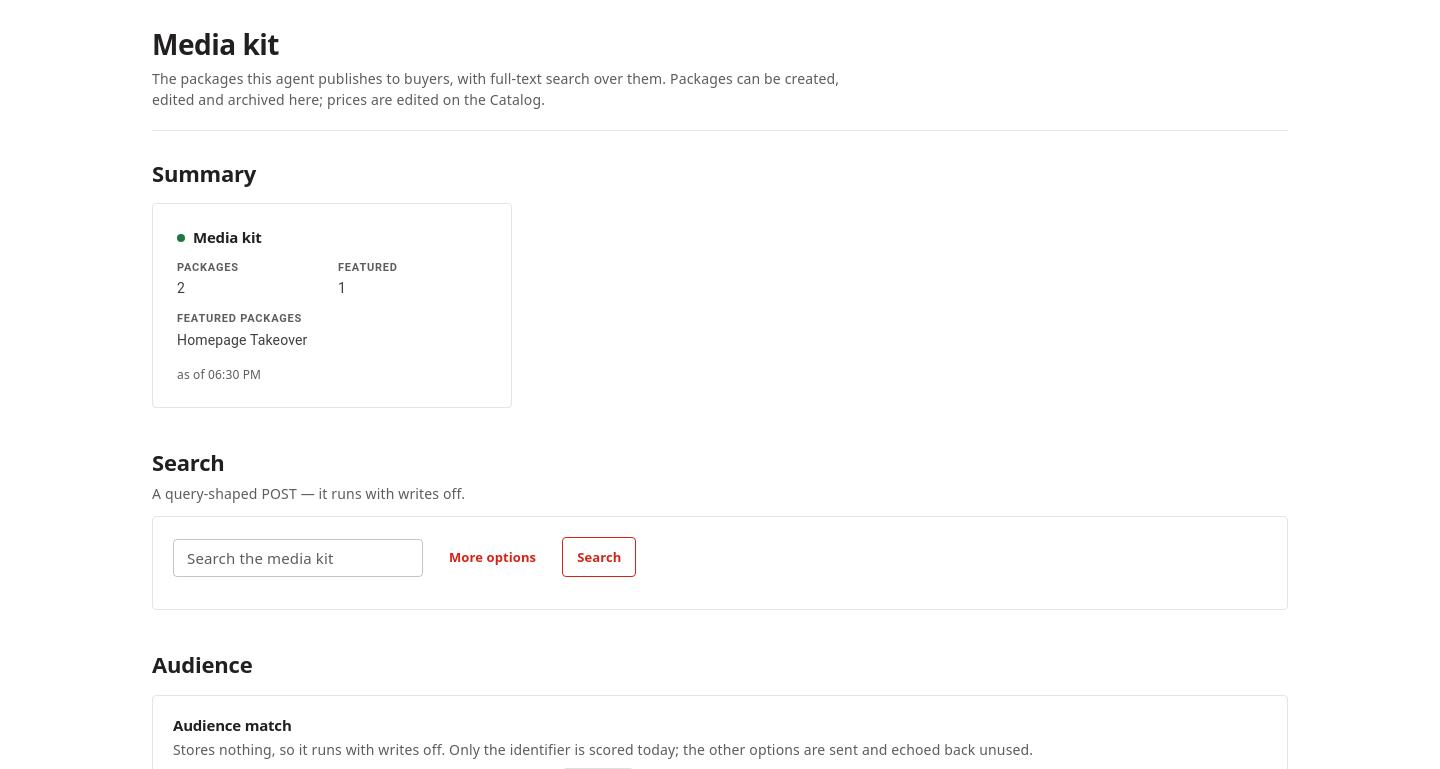
Test: the media kit screen › searches with the submitted query and shows the matching packages
Type "interstitial" into the field labelled "Search the media kit". click: (298, 558)
box: [173,538,423,577]
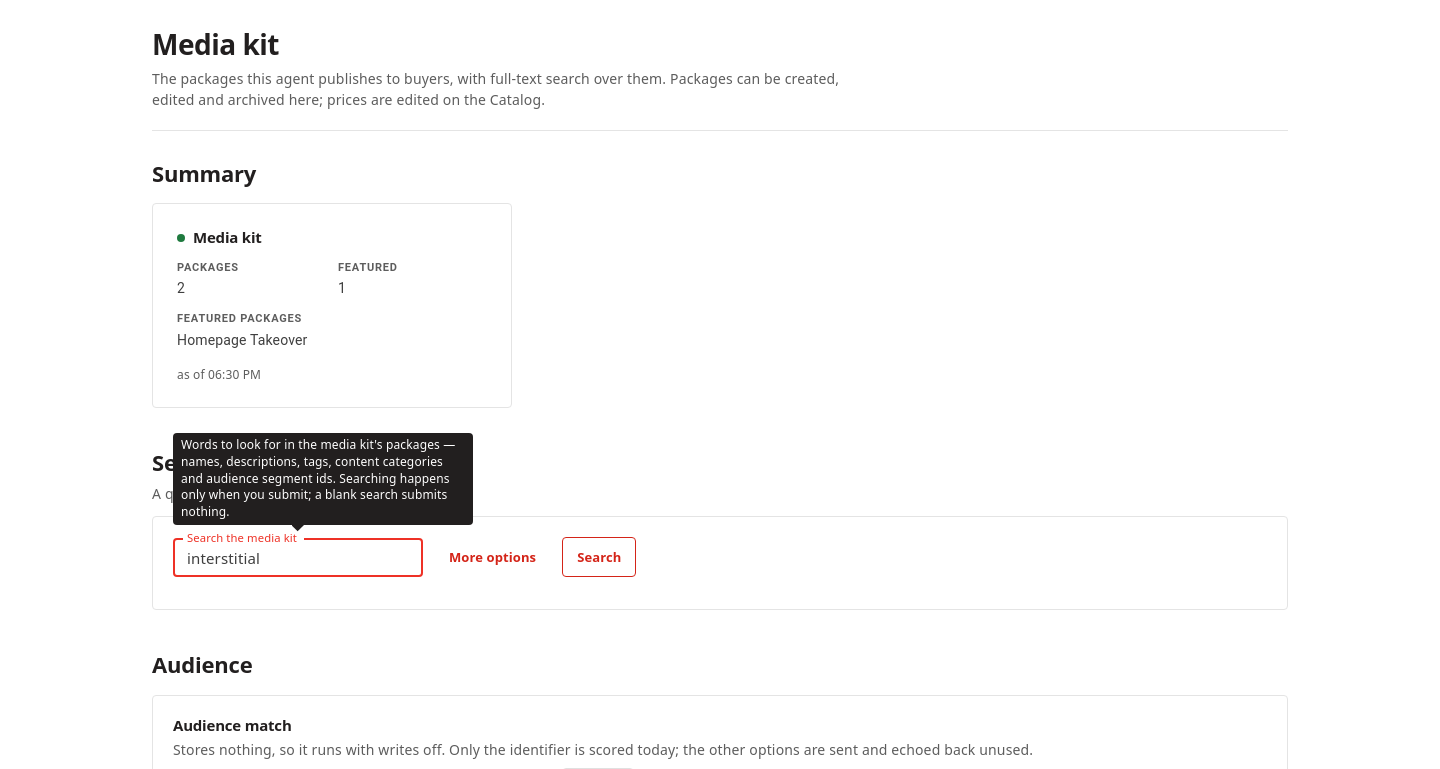
Click the button "Search". click: (599, 557)
box: [562,537,636,577]
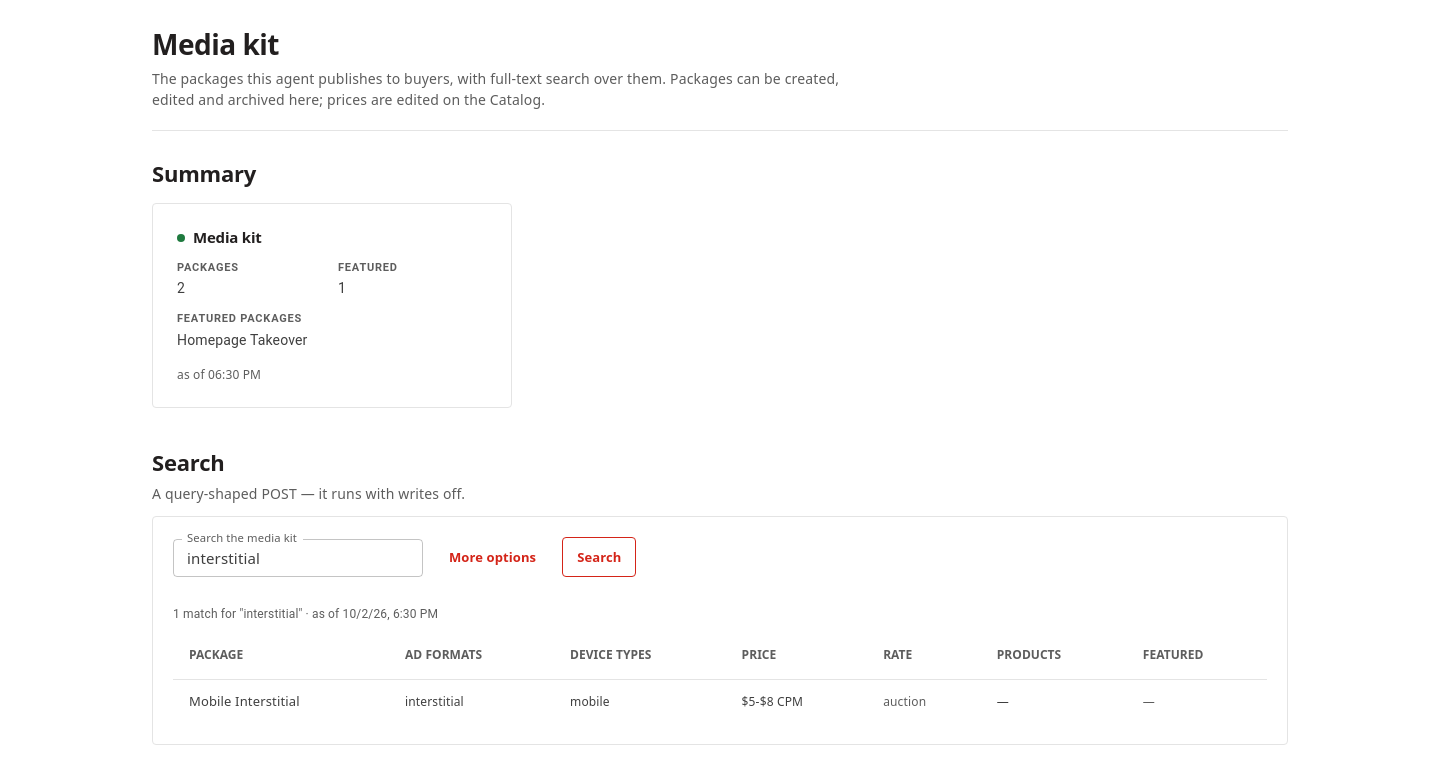
Expected: the text "Homepage Takeover" is not shown
Result: the table is shown at [173,631,1267,724]
Result: the table shows "Mobile Interstitial" at [189,692,300,710]
